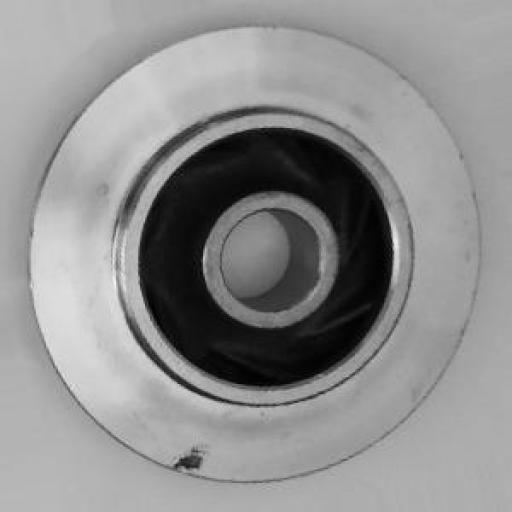defect: (141, 432, 241, 496)
